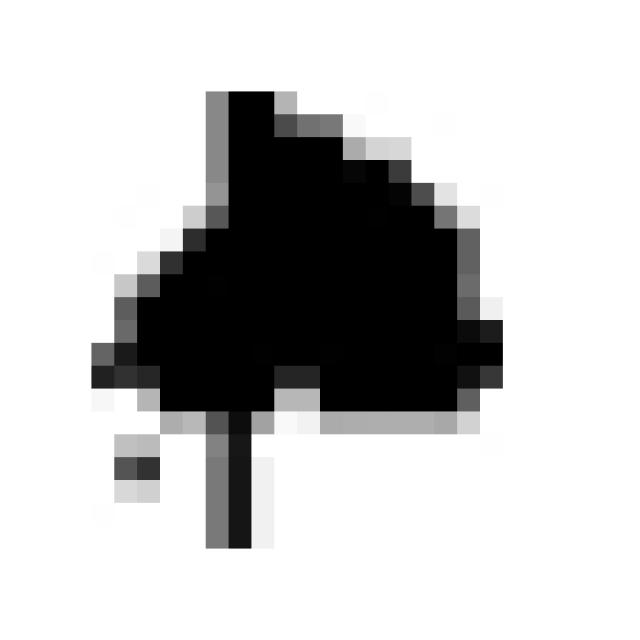0 -zero-: (66, 61, 525, 562)
